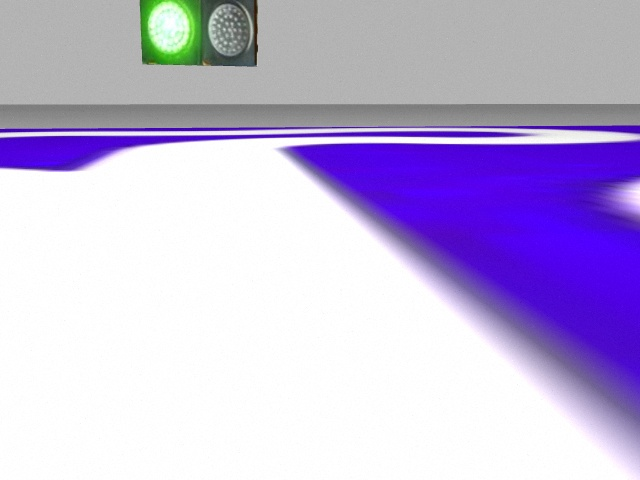green: (140, 1, 203, 64)
